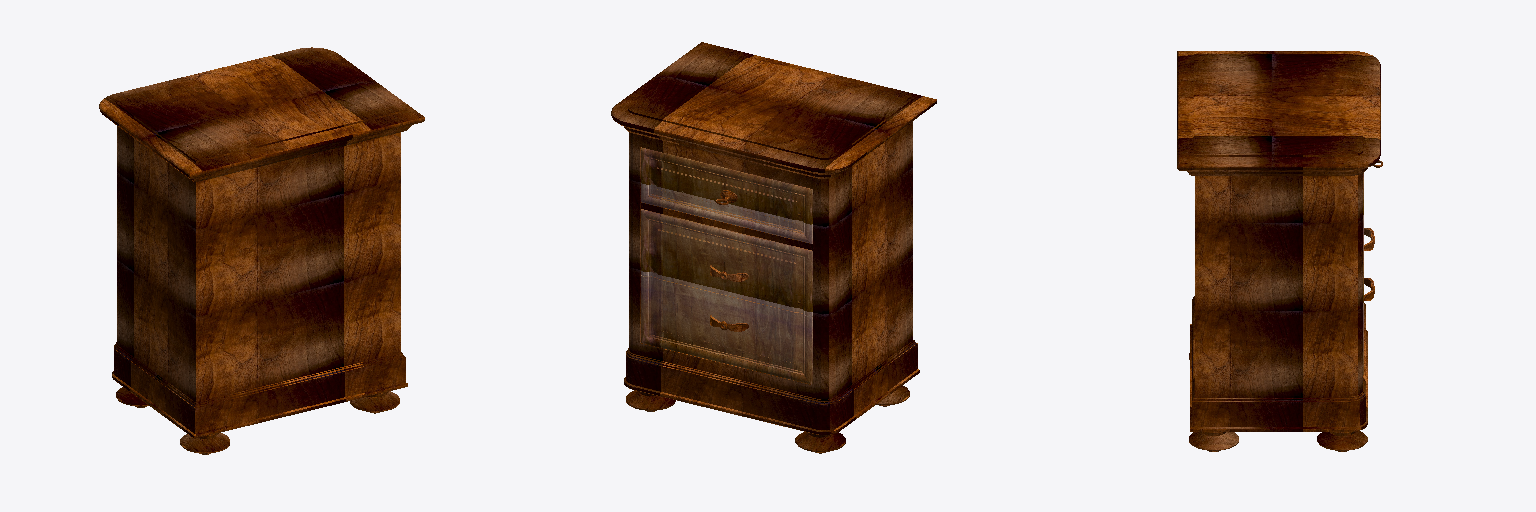
3 renders of one model, left to right at view 1: azimuth 30°, elevation 25°; view 2: azimuth 150°, elevation 25°; view 3: azimuth 270°, elevation 25°, orthographic.
Parts seen in each view (by area): view 1: Cylinder005; view 2: Cylinder005, Box018, Box019, Line011; view 3: Cylinder005.
Boxes of the visible parts, x1=… form: Cylinder005: x1=99, y1=47, x2=424, y2=454; Cylinder005: x1=611, y1=42, x2=936, y2=453; Box018: x1=641, y1=209, x2=812, y2=384; Box019: x1=641, y1=147, x2=812, y2=243; Line011: x1=710, y1=190, x2=748, y2=331; Cylinder005: x1=1177, y1=51, x2=1380, y2=451.
Size of the model in its own units: 0.6249 by 0.7663 by 0.4726.
Materials: 2 (2 with a texture image).